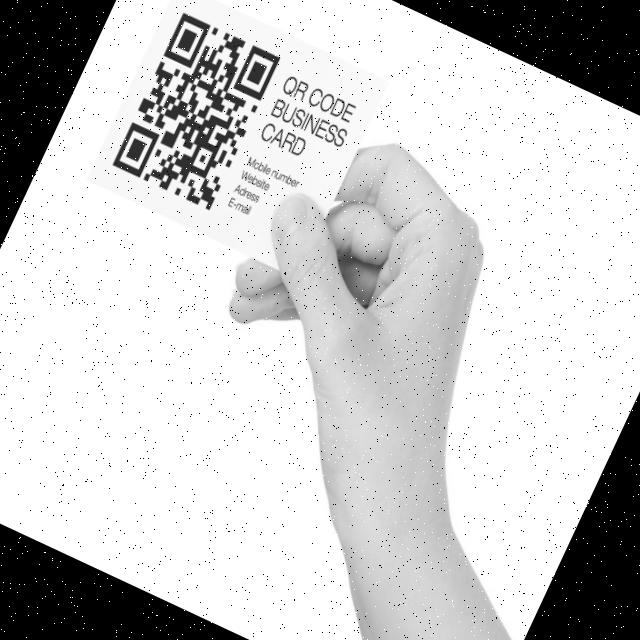QR-codes: (109, 8, 283, 214)
